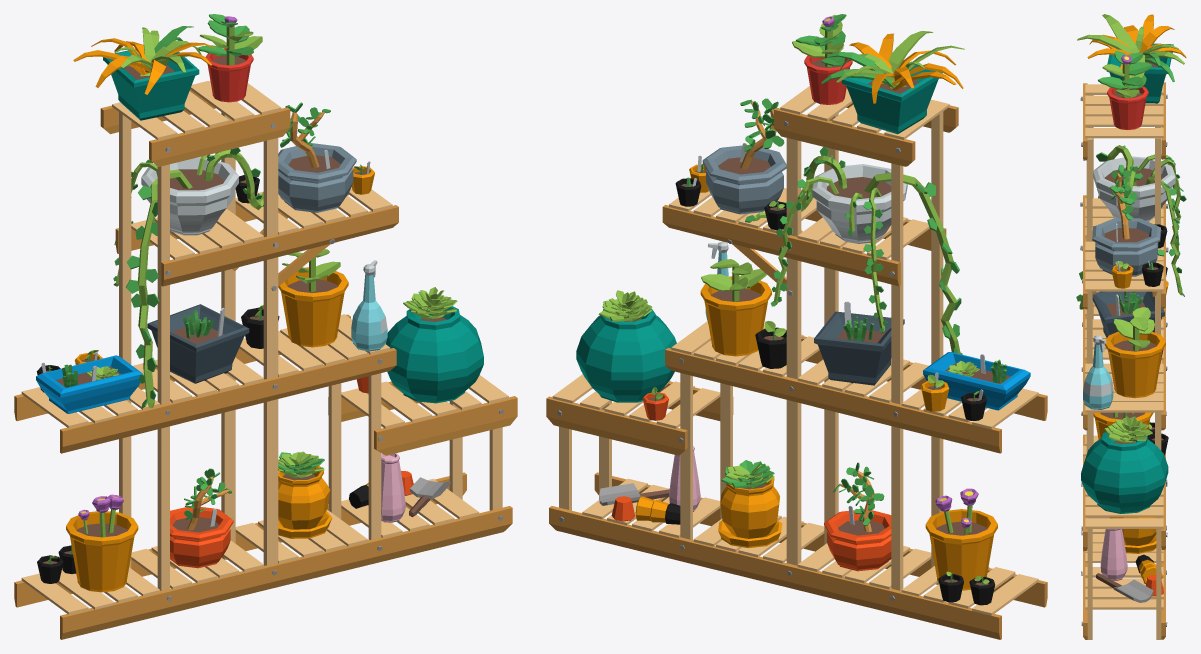
Rendered from plant_wall.glb.
3 views of the same model, side by side, from view 1: azimuth 30°, elevation 25°; view 2: azimuth 150°, elevation 25°; view 3: azimuth 270°, elevation 25° (orthographic). The views are drawn at different scales.
Visible parts, largest first — view 1: group329520873, group718421555, group188964254, group343148839, group1246536235, group492750791, group1796822198, group190984041, group681955559, group1111774705, group211612252, group1960316096 (+6 smaller); view 2: group329520873, group718421555, group188964254, group343148839, group1796822198, group1246536235, group492750791, group211612252, group190984041, group681955559, group1111774705, group1960316096 (+9 smaller); view 3: group329520873, group718421555, group1796822198, group343148839, group188964254, group1960316096, group681955559, group492750791, group366088625, group929991637, group211612252, group37634377 (+11 smaller).
Boxes of the visible parts, x1,y1,x2,y2 form: group329520873: [14, 81, 517, 639]; group718421555: [386, 287, 483, 403]; group188964254: [73, 26, 215, 120]; group343148839: [278, 102, 356, 212]; group1246536235: [66, 494, 138, 592]; group492750791: [147, 304, 249, 383]; group1796822198: [278, 249, 348, 347]; group190984041: [170, 468, 233, 568]; group681955559: [141, 156, 238, 235]; group1111774705: [36, 355, 143, 413]; group211612252: [278, 451, 332, 538]; group1960316096: [198, 14, 262, 102]; group329520873: [546, 86, 1047, 639]; group718421555: [576, 290, 676, 402]; group188964254: [821, 31, 964, 134]; group343148839: [702, 98, 786, 214]; group1796822198: [700, 259, 771, 356]; group1246536235: [925, 488, 997, 590]; group492750791: [814, 301, 904, 385]; group211612252: [718, 460, 782, 547]; group190984041: [824, 462, 891, 571]; group681955559: [812, 164, 907, 243]; group1111774705: [923, 352, 1030, 410]; group1960316096: [792, 14, 852, 104]; group329520873: [1080, 82, 1168, 639]; group718421555: [1081, 416, 1168, 513]; group1796822198: [1104, 307, 1165, 398]; group343148839: [1092, 164, 1160, 276]; group188964254: [1077, 14, 1186, 103]; group1960316096: [1098, 50, 1152, 129]; group681955559: [1093, 156, 1175, 221]; group492750791: [1092, 291, 1164, 337]; group366088625: [1083, 335, 1113, 409]; group929991637: [1100, 529, 1127, 580]; group211612252: [1109, 517, 1156, 553]; group37634377: [1145, 177, 1184, 296].
Bounding box in the file's own units: 1.84 × 2.16 × 0.4516.
